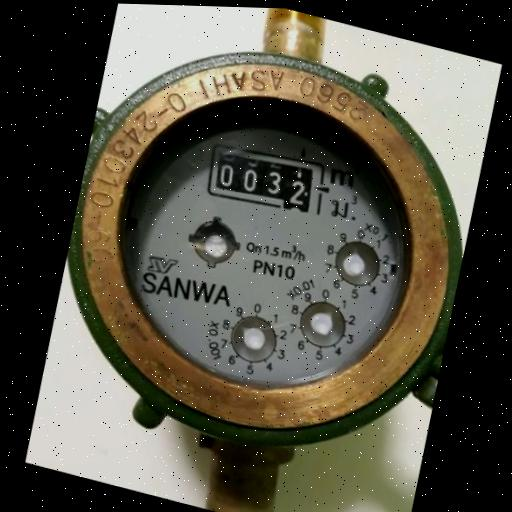0: (232, 154, 269, 197), (212, 152, 244, 193)
2: (278, 162, 319, 217)
3: (256, 157, 293, 203)
border_water_meter_number: (200, 134, 331, 224)
